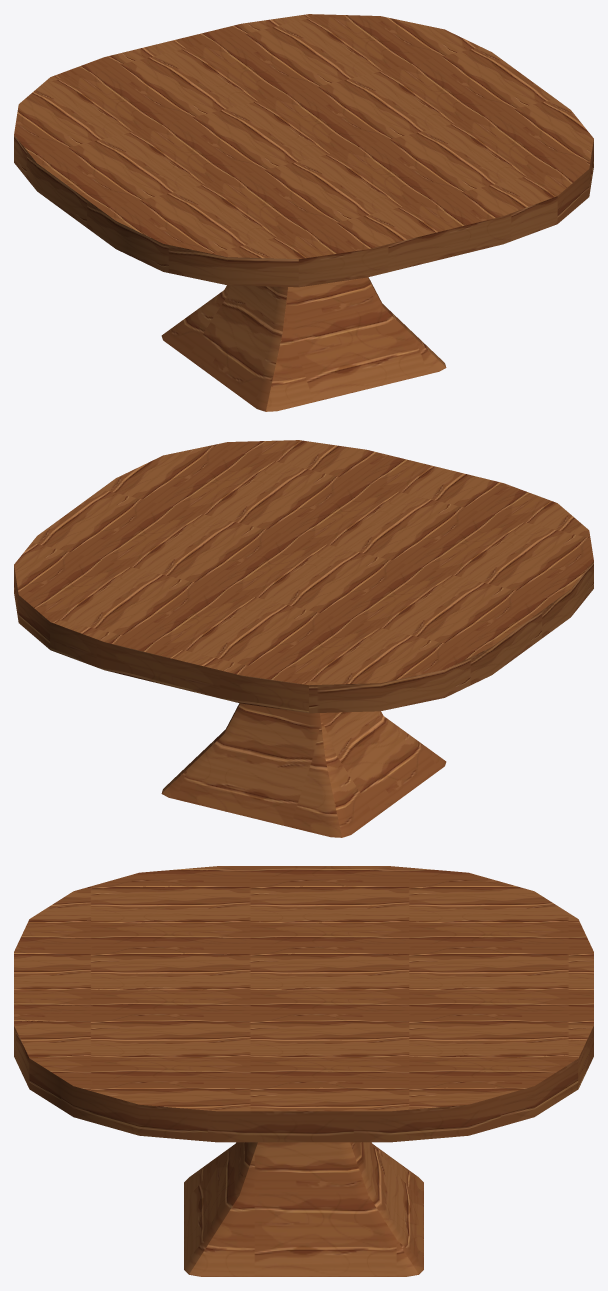
The model's file is FRM0510010.fbx.
3 renders of one model, top to bottom at view 1: azimuth 30°, elevation 25°; view 2: azimuth 150°, elevation 25°; view 3: azimuth 270°, elevation 25°, orthographic. The views are drawn at different scales.
Parts seen in each view (by area): view 1: smFRM0510010; view 2: smFRM0510010; view 3: smFRM0510010.
Part boxes in pixels (x1,y1,x2,y2): smFRM0510010: (14,14,593,411); smFRM0510010: (14,440,593,837); smFRM0510010: (14,866,593,1276).
Bounding box in the file's own units: 128 × 57.88 × 128.
Materials: 1 (1 with a texture image).
